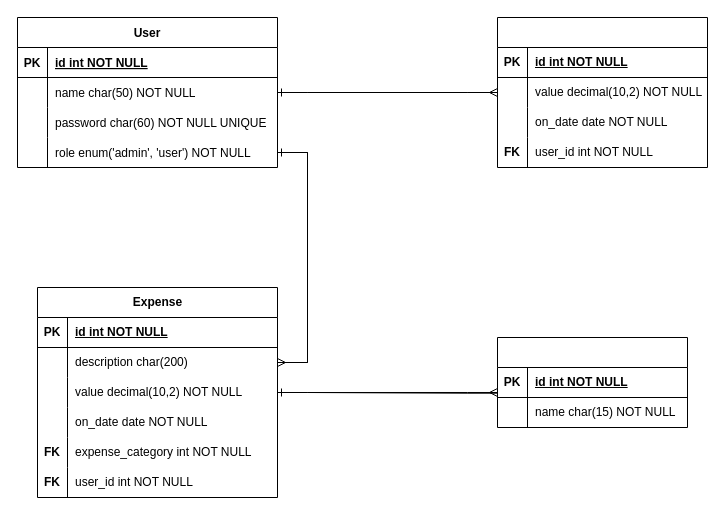
Some shapes in this 725 by 515 pixel diagram are drawn without their labels. The box of each missing label's shape, as (x1, y1, x2, y2) in pixels:
Expense Category: (496, 336, 688, 428)
Transaction: (496, 16, 708, 168)
